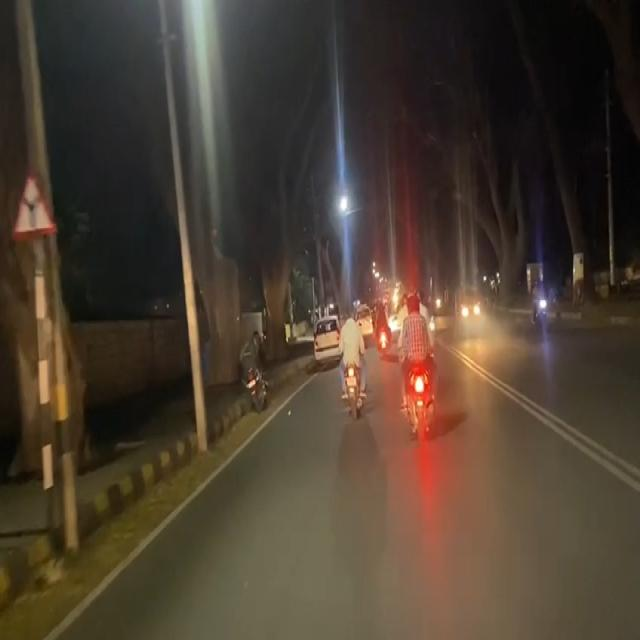bien_cam: (10, 163, 60, 238)
